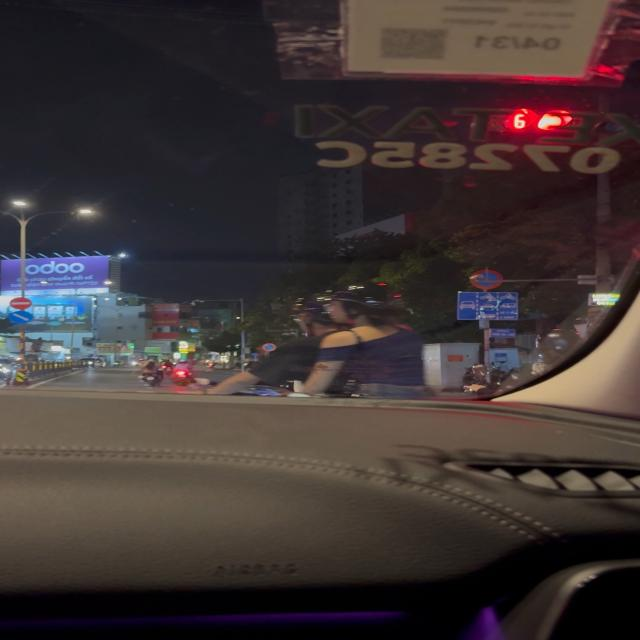Bien bao cam do xe: (466, 268, 504, 290), (261, 342, 280, 353)
